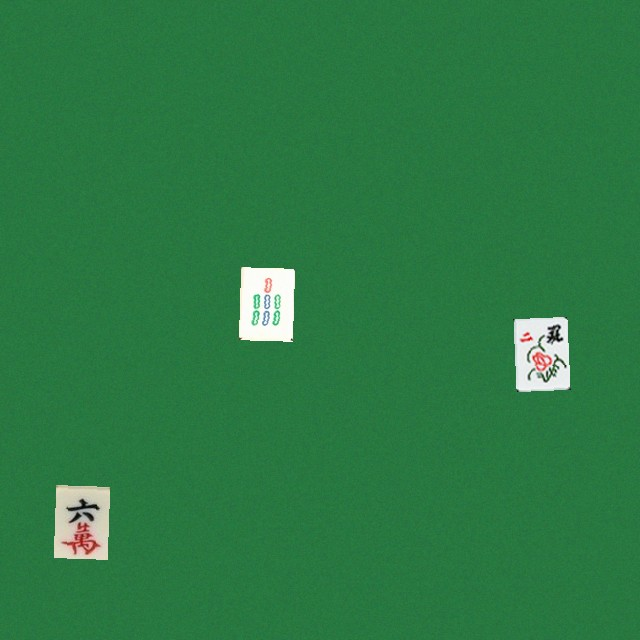tile: (53, 485, 107, 558), (513, 316, 567, 389), (238, 267, 292, 340)
